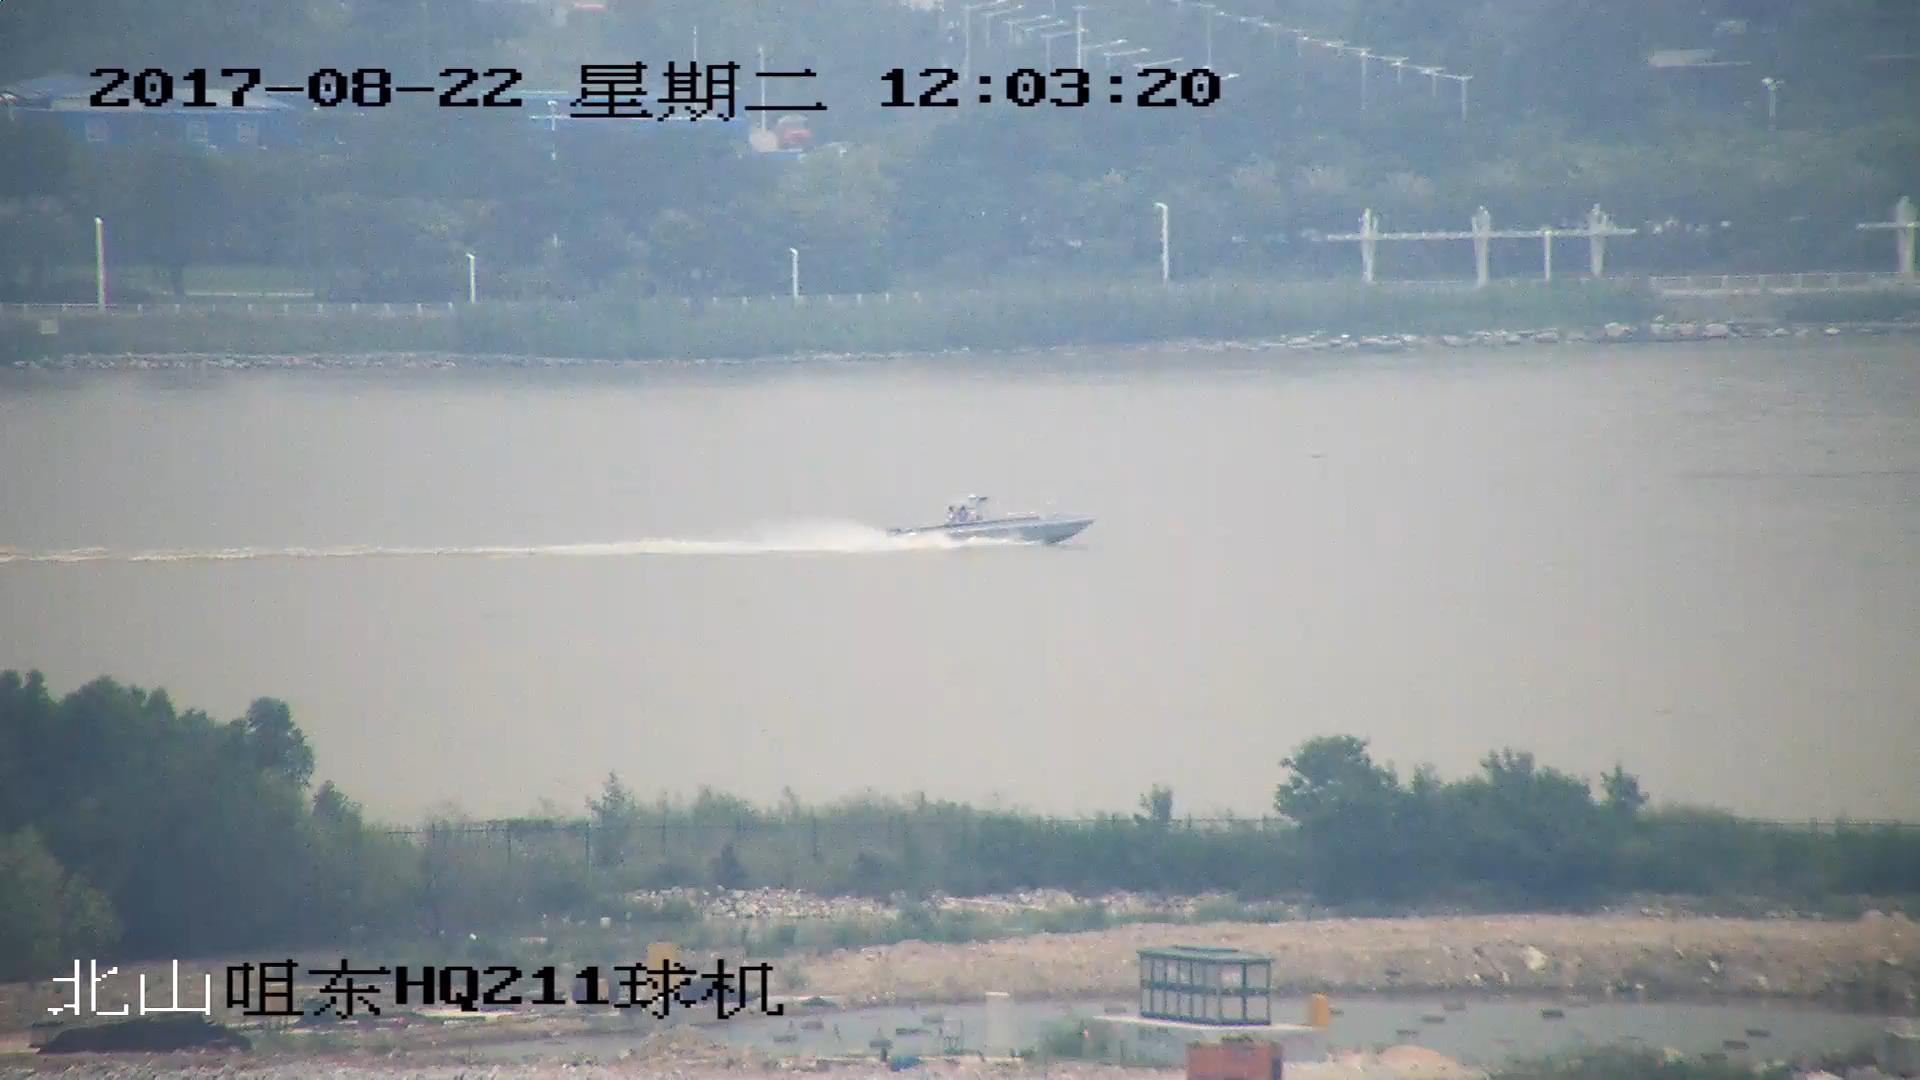passenger ship: (880, 495, 1092, 559)
